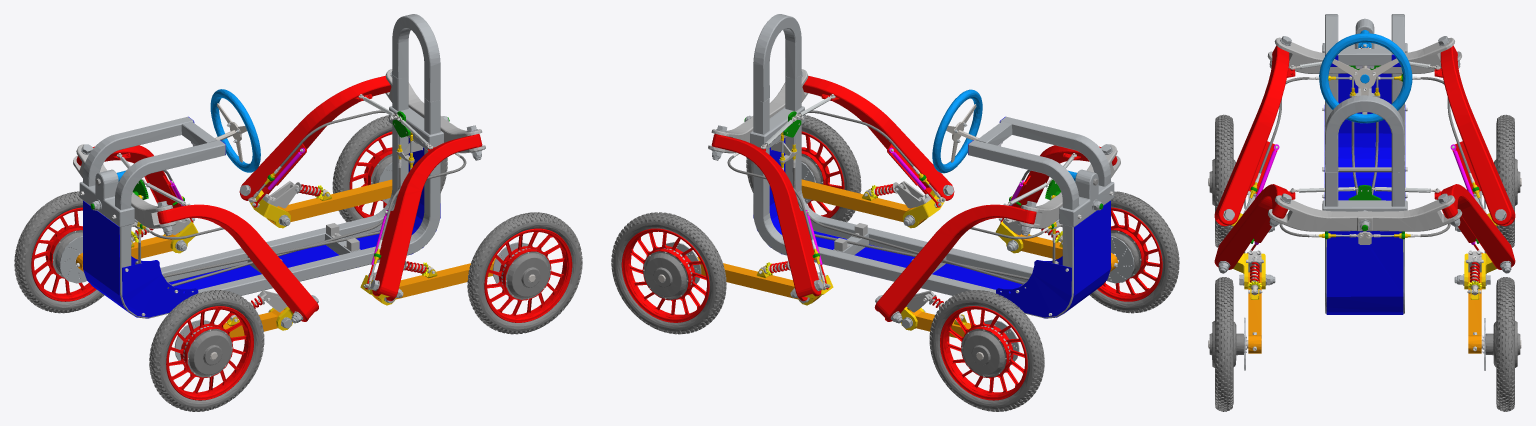
File: swincar.dae
3 renders of one model, left to right at view 1: azimuth 30°, elevation 25°; view 2: azimuth 150°, elevation 25°; view 3: azimuth 270°, elevation 25°, orthographic. The views are drawn at different scales.
Parts seen in each view (by area): view 1: node476; view 2: node476; view 3: node476.
Boxes of the visible parts, bbox=[...] form: node476: bbox=[14, 14, 582, 411]; node476: bbox=[611, 14, 1179, 411]; node476: bbox=[1208, 14, 1521, 411].
Size of the model in its own units: 1.95 by 1.18 by 1.19.
